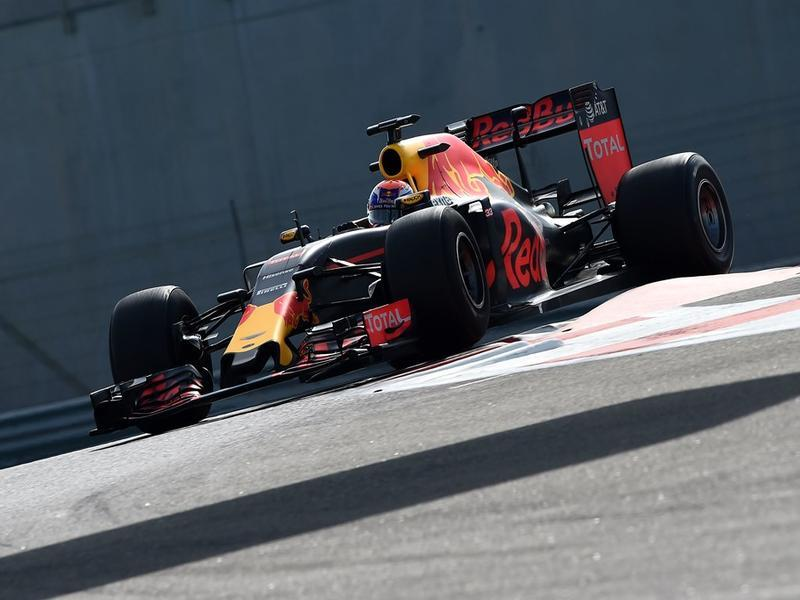racecar: (97, 83, 743, 426)
